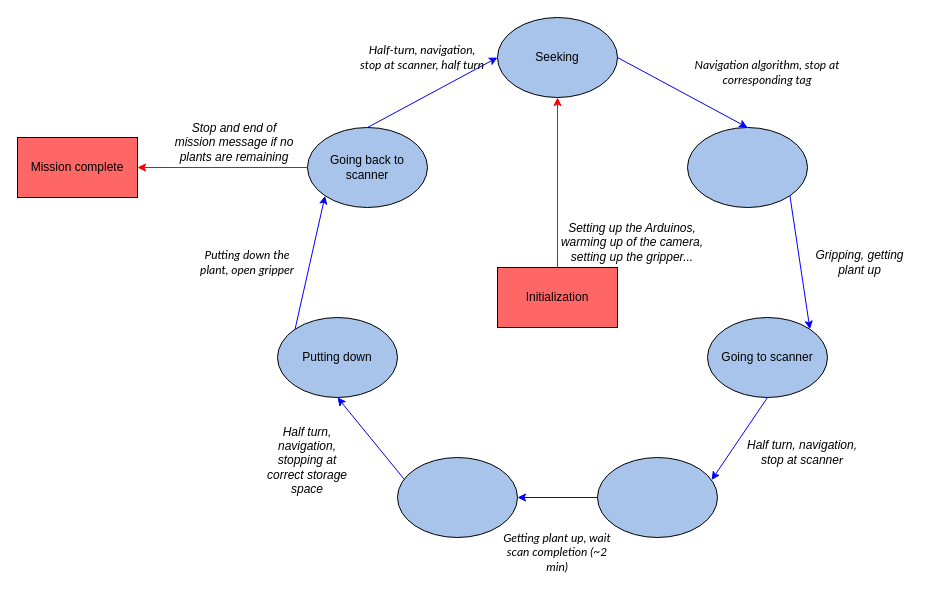
Some shapes in this 930 by 605 pixel diagram are drawn without their labels. The shapes that lost their labels are listed below. From the top down, each one's centre as x and y in pixels, then its label:
[747,167]: Taking
[457,497]: Going to storage
[657,497]: Waiting for scan
